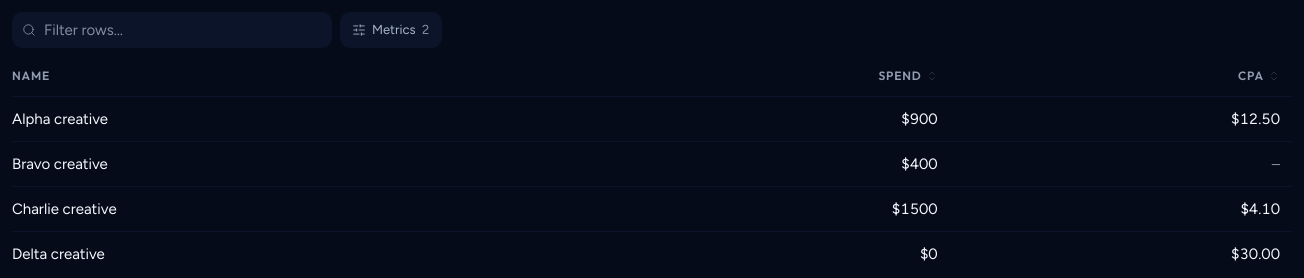
Test case: MetricTable · filtering › narrows to matching rows and says so when nothing matches
This screenshot has width=1304, height=278.
In the field labelled "Filter rows…": x=172, y=30 [12,12,332,48], type "brav"
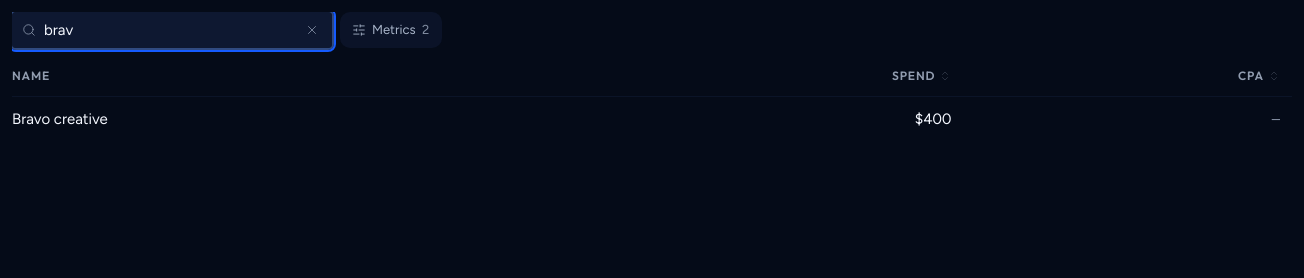
Replace the text in the field named "Filter rows" with "zzz": x=172, y=30 [12,12,332,48]
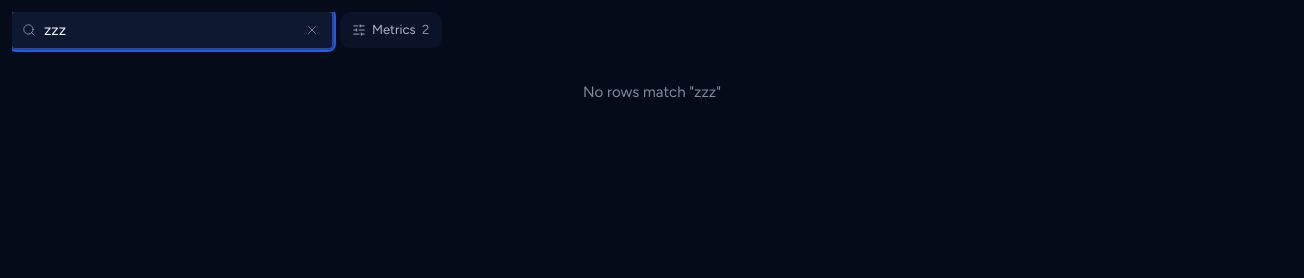
Expected: the text "No rows match \"zzz\"" is shown, [583,83,721,101]
